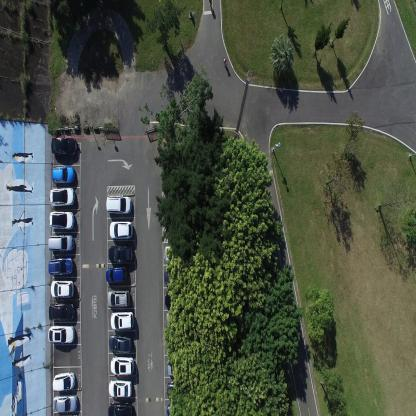car: (50, 136, 77, 158), (48, 209, 74, 231), (105, 194, 132, 215), (48, 324, 75, 344), (110, 310, 134, 332), (49, 186, 75, 206), (108, 244, 134, 264), (48, 232, 74, 252), (48, 256, 74, 276), (166, 380, 192, 400), (52, 370, 75, 392), (108, 332, 132, 353), (51, 165, 76, 185), (52, 394, 78, 413), (48, 302, 75, 320), (164, 266, 188, 286), (50, 278, 74, 298), (110, 355, 134, 375), (109, 220, 133, 239), (164, 244, 188, 263), (164, 289, 188, 308), (165, 311, 189, 330), (166, 357, 190, 376), (108, 379, 132, 398), (105, 265, 128, 284), (107, 289, 130, 308), (107, 401, 133, 415), (166, 401, 190, 415)
